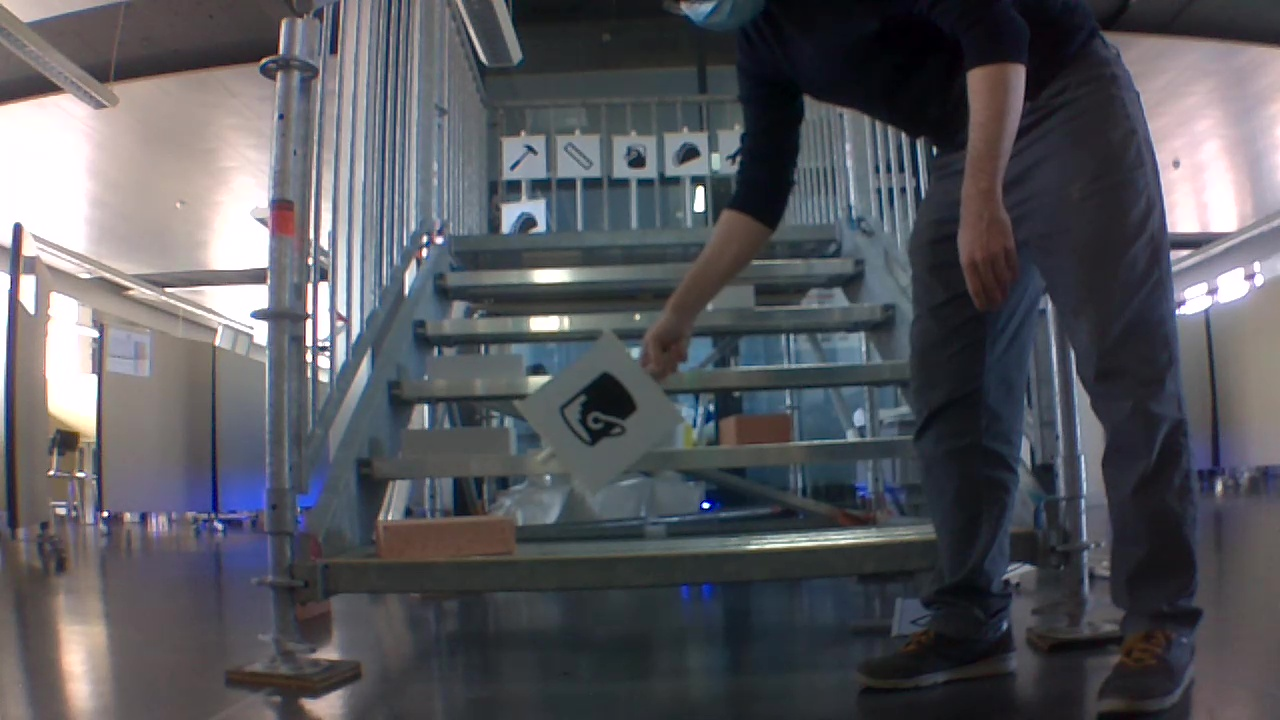brick: (377, 518, 511, 557), (401, 428, 514, 460), (427, 353, 526, 378), (720, 416, 791, 443), (715, 286, 753, 308)
bucket: (555, 369, 640, 457), (620, 141, 649, 173)
edge: (327, 528, 1043, 592)
hammer: (506, 142, 543, 174)
ruler: (561, 139, 596, 175)
taco: (504, 208, 541, 233), (672, 139, 701, 170)
